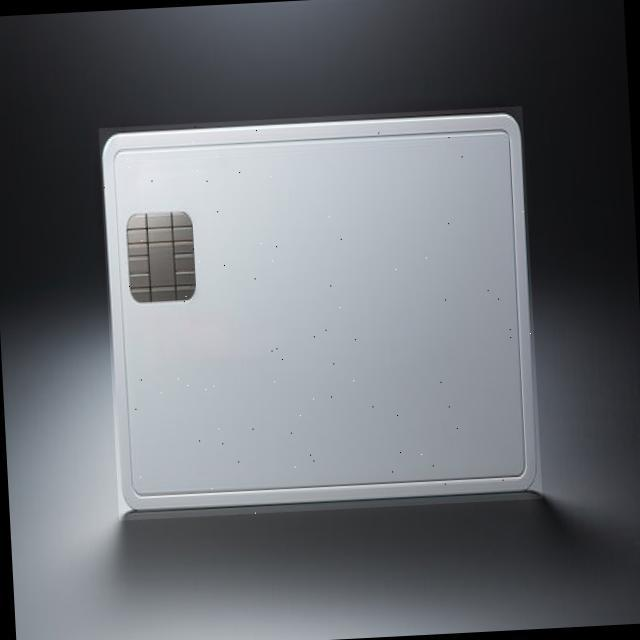payment_card: (99, 108, 542, 516)
